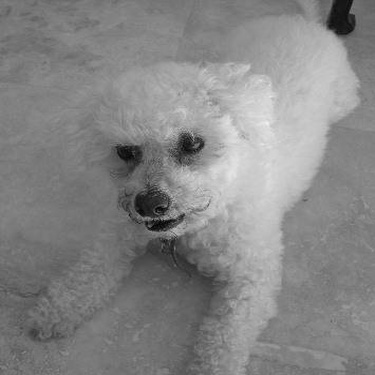dog: (17, 2, 365, 373)
